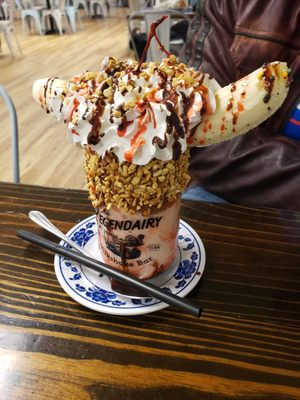burger: (16, 208, 204, 319)
